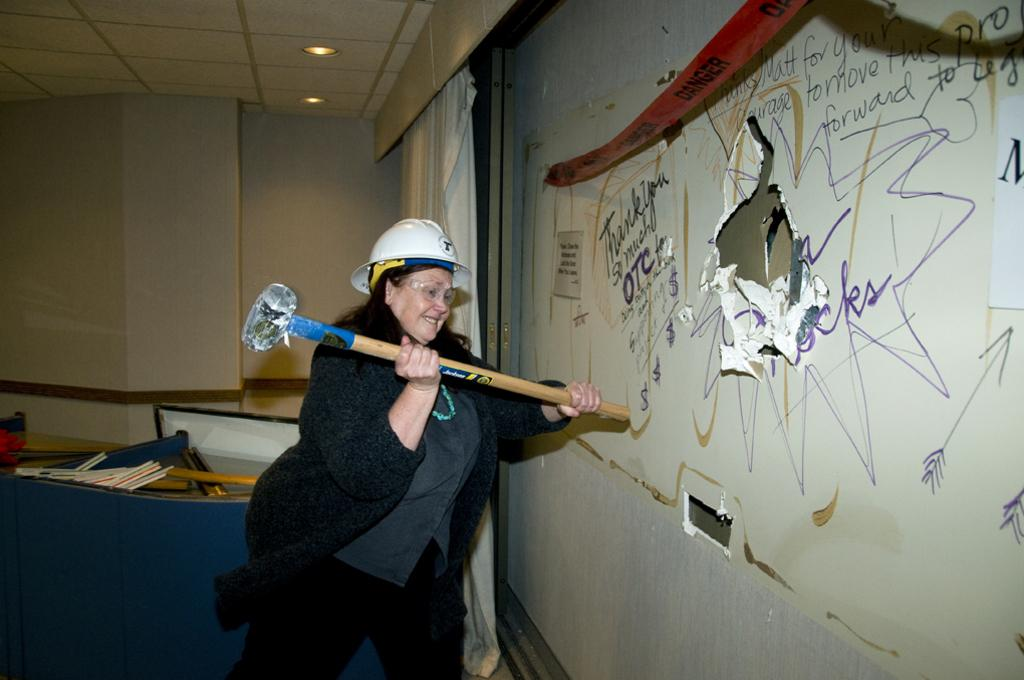helmet: (350, 218, 473, 338)
